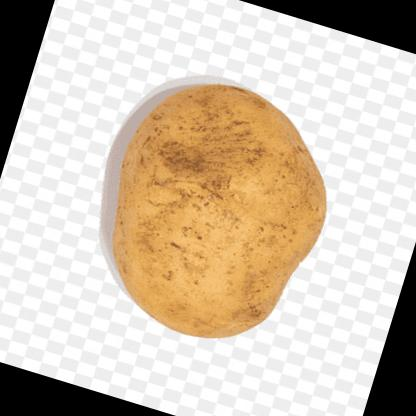potato: (75, 58, 357, 367)
